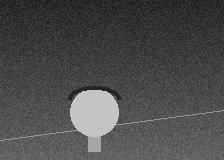no_helmet: (70, 86, 118, 141)
